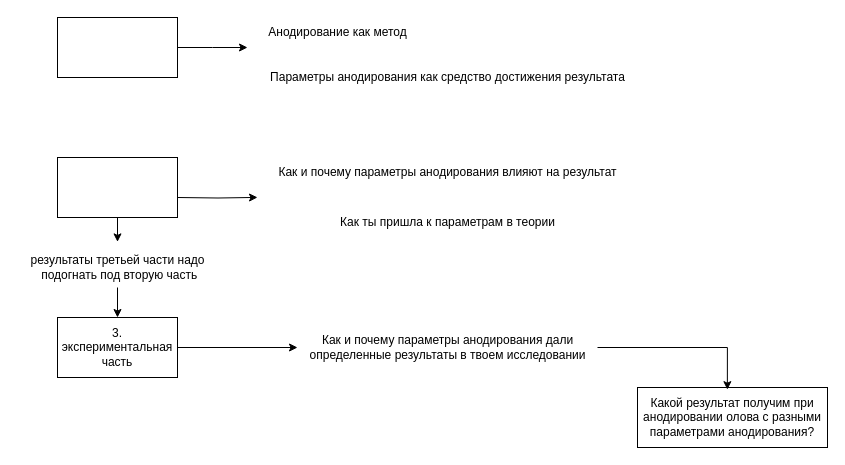
Image size: 845x465. Some labels were removed from this diagram. Each missing label, with the box of its shape:
1. теор часть: (56, 16, 178, 78)
2. мат часть: (56, 156, 178, 218)
